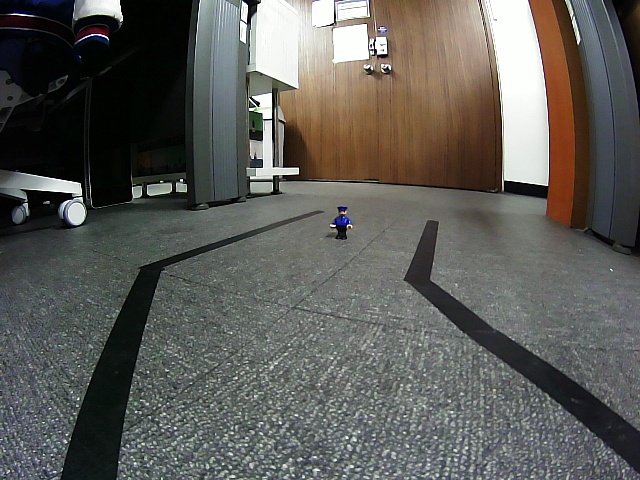person: (330, 206, 353, 242)
